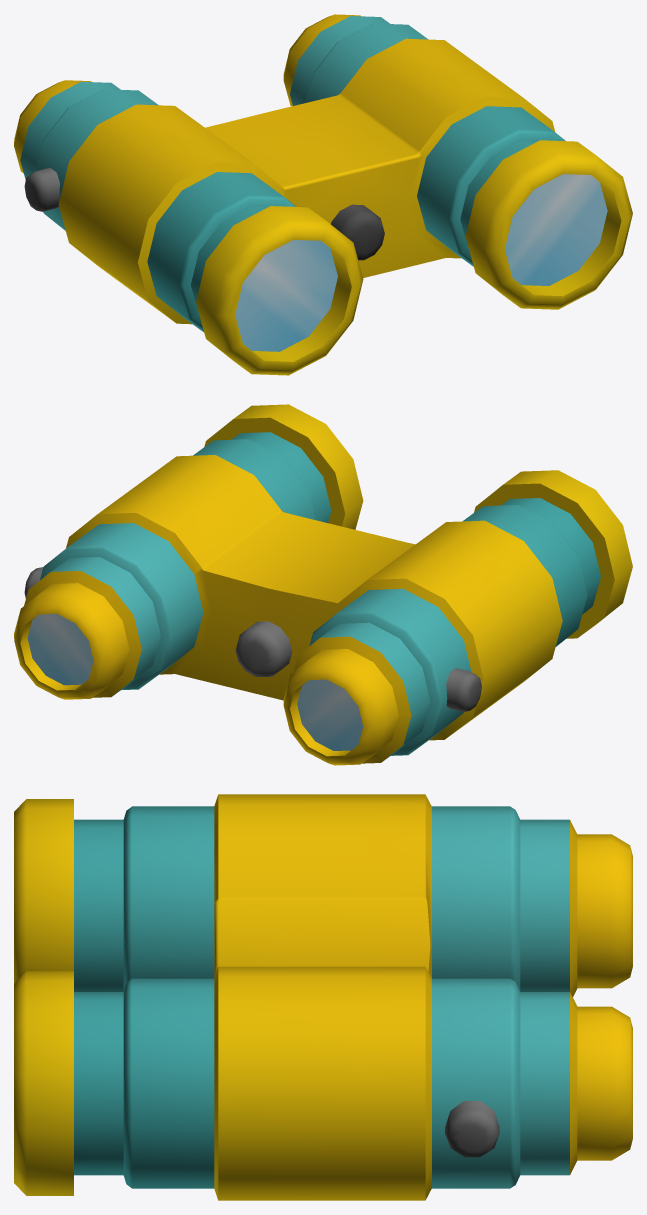
File: Binoculars_2.glb
3 renders of one model, top to bottom at view 1: azimuth 30°, elevation 25°; view 2: azimuth 150°, elevation 25°; view 3: azimuth 270°, elevation 25°, orthographic. The views are drawn at different scales.
Visible parts, largest first — view 1: Binoculars_2; view 2: Binoculars_2; view 3: Binoculars_2.
Boxes of the visible parts, bbox=[...] form: Binoculars_2: bbox=[14, 14, 632, 375]; Binoculars_2: bbox=[14, 404, 632, 765]; Binoculars_2: bbox=[14, 794, 632, 1200].
Size of the model in its own units: 0.1577 by 0.0552 by 0.1454.
Materials: 1 (1 with a texture image).
